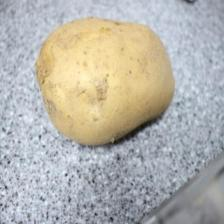Potato: (34, 14, 177, 146)
